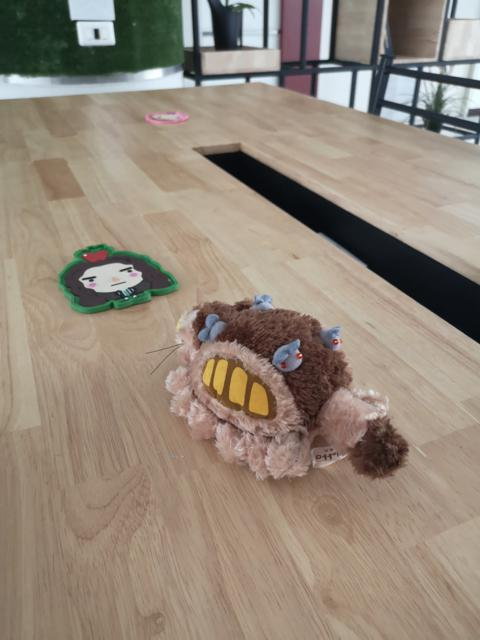nekobus: (145, 293, 415, 488)
